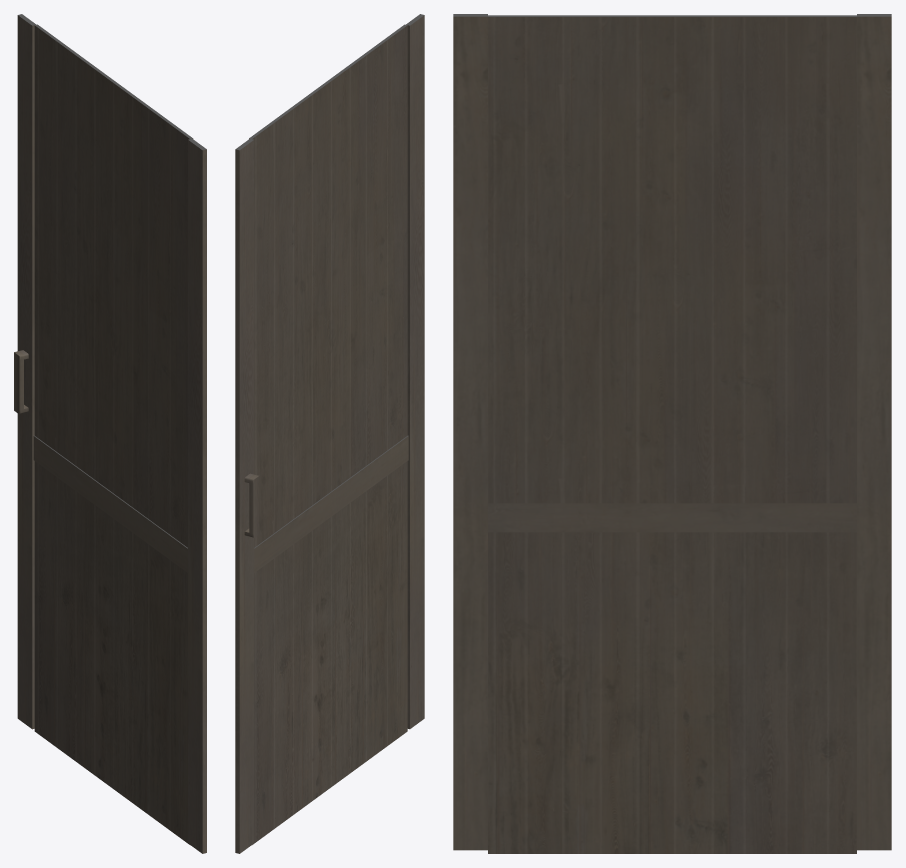
File: doorEntry.gltf
The picture shows the model from 3 angles, left to right: view 1: azimuth 30°, elevation 25°; view 2: azimuth 150°, elevation 25°; view 3: azimuth 270°, elevation 25°; orthographic projection. The views are drawn at different scales.
Visible parts, largest first — view 1: doorEntry; view 2: doorEntry; view 3: doorEntry.
Part boxes in pixels (bbox=[...]): doorEntry: bbox=[14, 14, 206, 853]; doorEntry: bbox=[235, 14, 424, 853]; doorEntry: bbox=[453, 14, 891, 853].
Bounding box in the file's own units: 0.0367 × 1.71 × 0.8126.
Materials: 1 (1 with a texture image).
